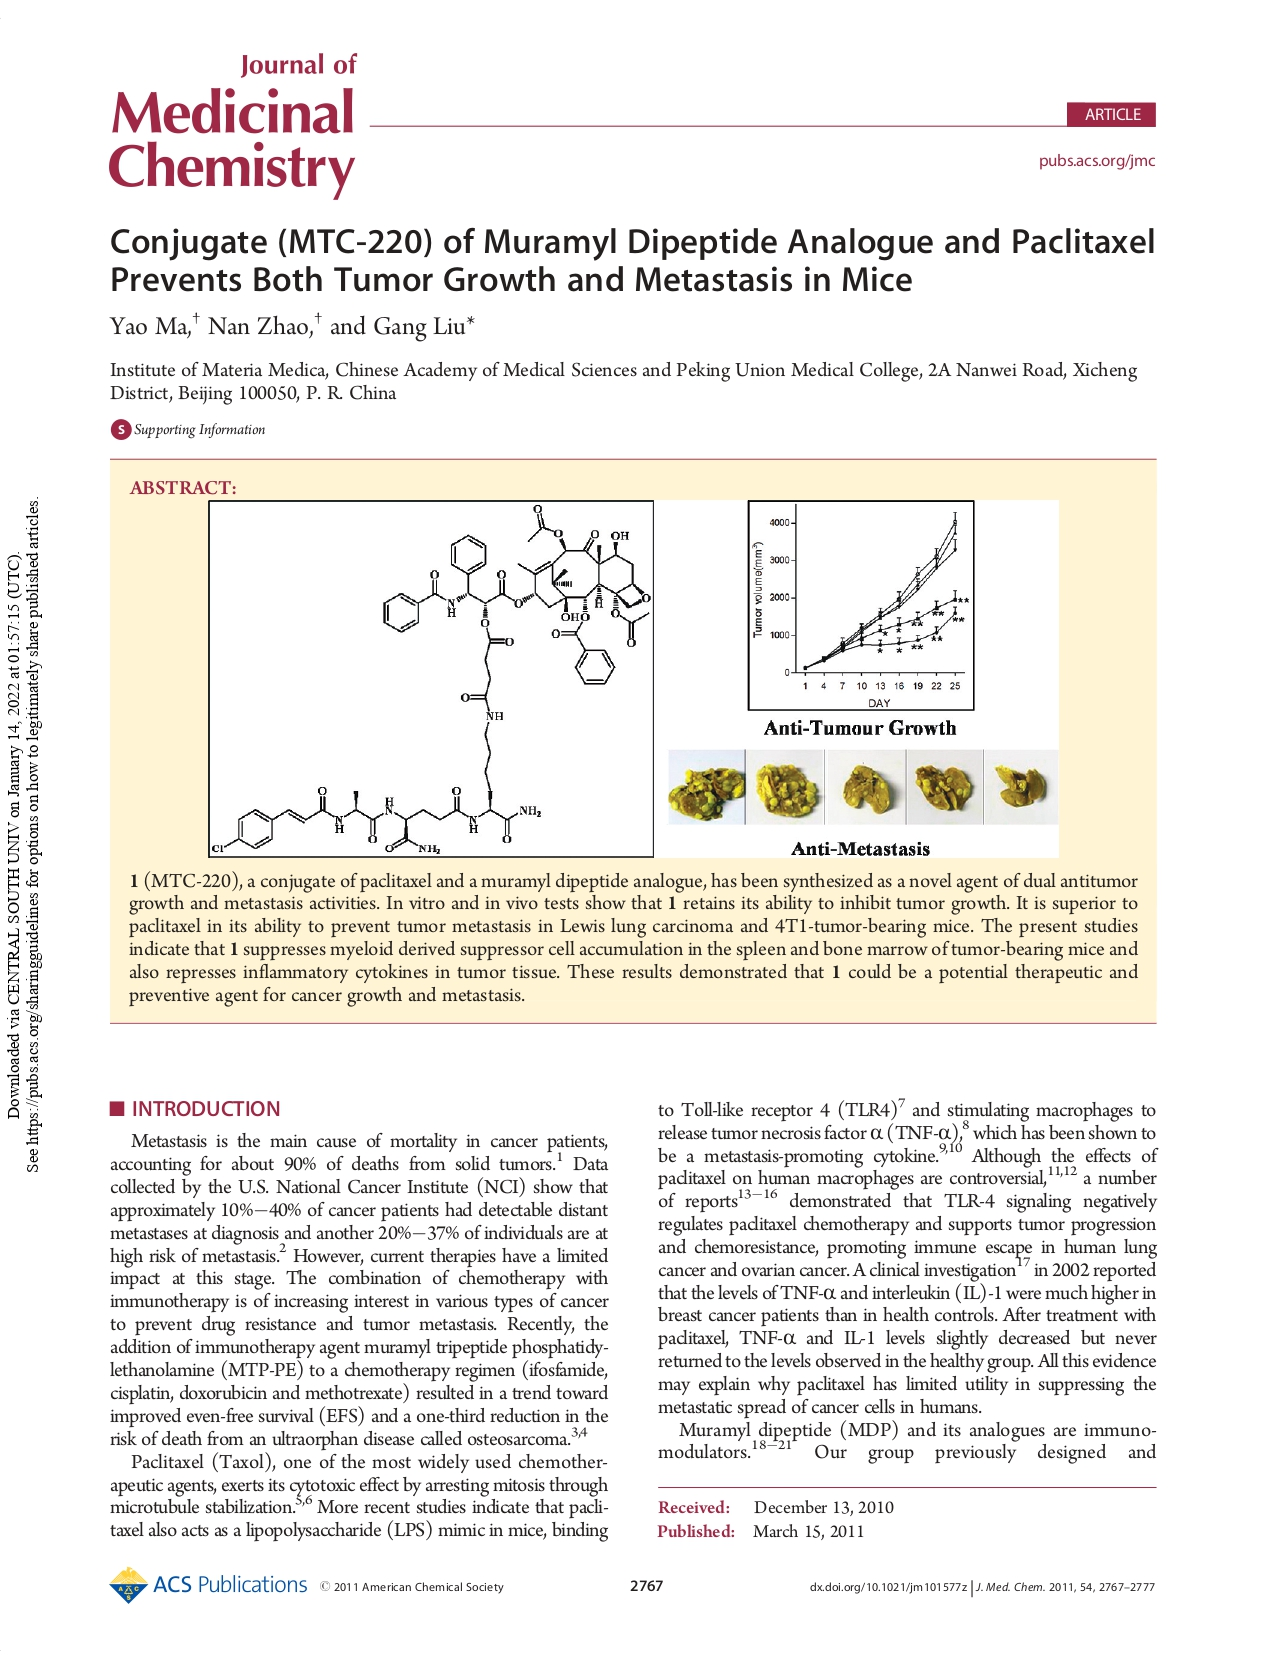exist_molecular: (210, 503, 652, 855)
